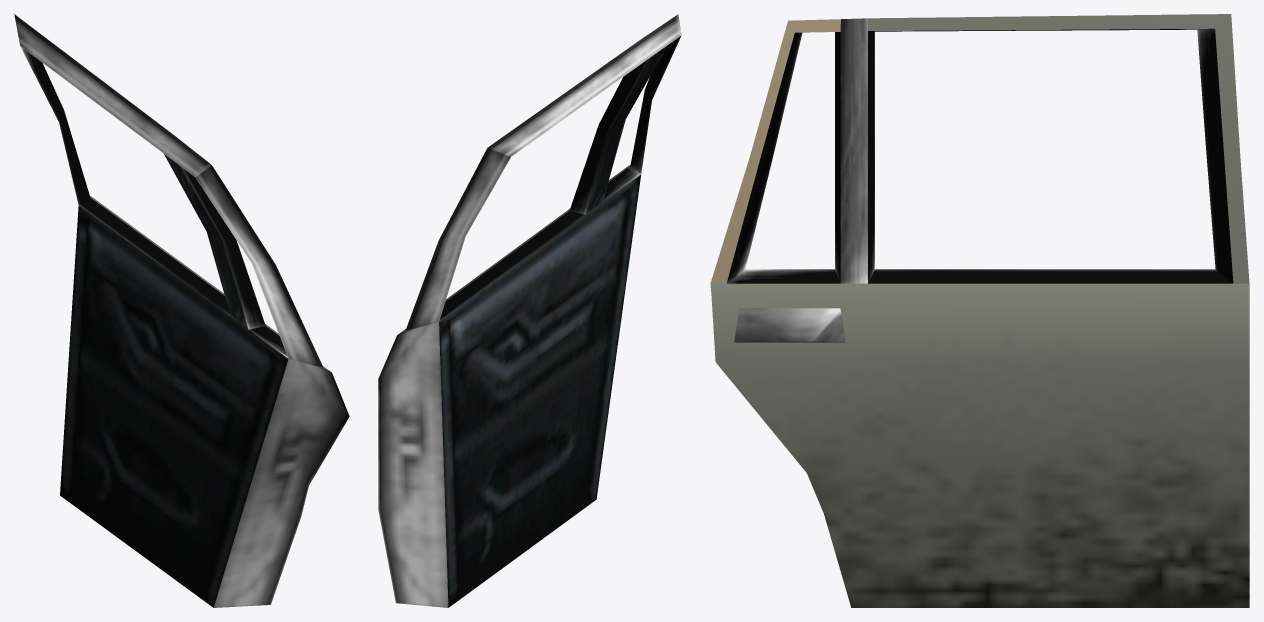
File: door_rr.fbx
3 views of the same model, side by side, from view 1: azimuth 30°, elevation 25°; view 2: azimuth 150°, elevation 25°; view 3: azimuth 270°, elevation 25° (orthographic). The views are drawn at different scales.
Visible parts, largest first — view 1: node_b367fb52_a54f_48c4_ac40_c082f32ece2b_mesh0, node_daa3cbaf_6d91_4903_8c4e_e4be86093a11_mesh0, node_096522ce_1466_4c66_af29_71342f6b7da7_mesh0; view 2: node_b367fb52_a54f_48c4_ac40_c082f32ece2b_mesh0, node_daa3cbaf_6d91_4903_8c4e_e4be86093a11_mesh0, node_096522ce_1466_4c66_af29_71342f6b7da7_mesh0; view 3: node_dd63dc39_9cfa_4658_9848_530ad41d3690_mesh0, node_096522ce_1466_4c66_af29_71342f6b7da7_mesh0, node_af3a74a6_f254_4ba1_938a_44c1effe7b9f_mesh0, node_8cb167fe_6c39_4537_bdee_7353236475bc_mesh0.
Part boxes in pixels (x1=…): node_b367fb52_a54f_48c4_ac40_c082f32ece2b_mesh0: x1=60, y1=154, x2=288, y2=607; node_daa3cbaf_6d91_4903_8c4e_e4be86093a11_mesh0: x1=14, y1=14, x2=349, y2=607; node_096522ce_1466_4c66_af29_71342f6b7da7_mesh0: x1=20, y1=46, x2=288, y2=358; node_b367fb52_a54f_48c4_ac40_c082f32ece2b_mesh0: x1=439, y1=45, x2=667, y2=607; node_daa3cbaf_6d91_4903_8c4e_e4be86093a11_mesh0: x1=378, y1=14, x2=681, y2=607; node_096522ce_1466_4c66_af29_71342f6b7da7_mesh0: x1=439, y1=35, x2=681, y2=321; node_dd63dc39_9cfa_4658_9848_530ad41d3690_mesh0: x1=710, y1=14, x2=1249, y2=607; node_096522ce_1466_4c66_af29_71342f6b7da7_mesh0: x1=726, y1=28, x2=1233, y2=283; node_af3a74a6_f254_4ba1_938a_44c1effe7b9f_mesh0: x1=734, y1=18, x2=867, y2=342; node_8cb167fe_6c39_4537_bdee_7353236475bc_mesh0: x1=710, y1=19, x2=840, y2=283.
Size of the model in its own units: 29.88 by 119 by 106.
